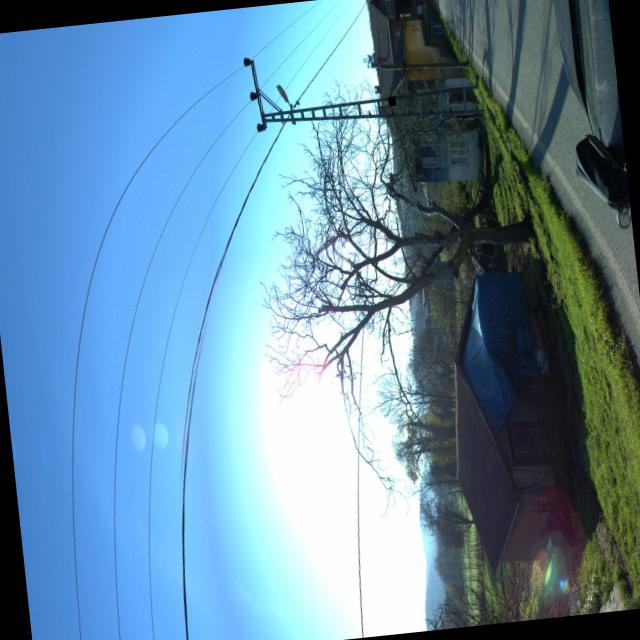Utility Pole Information Plate: (388, 95, 396, 104)
